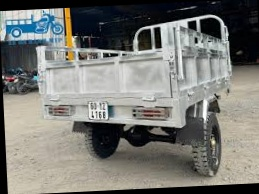Bien-so: (75, 94, 97, 115)
